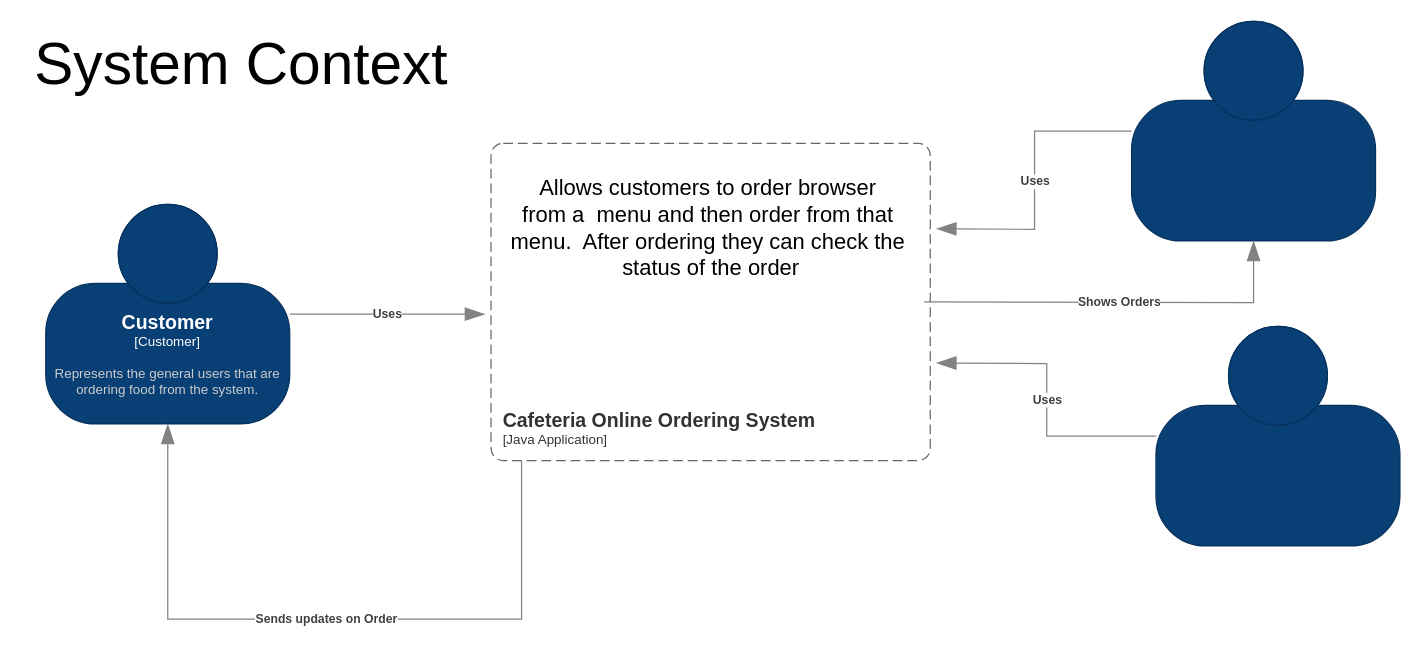
Some shapes in this 1421 by 660 pixel diagram are drawn without their labels. Here are the shapes that lost their labels. From the top down, the box of each, then its label:
(1130, 20, 1376, 241): Cafeteria Operator [Person] Manage and Process food orders
(1155, 325, 1400, 546): Cafeteria Manager [Person] Manages the Menu Items
